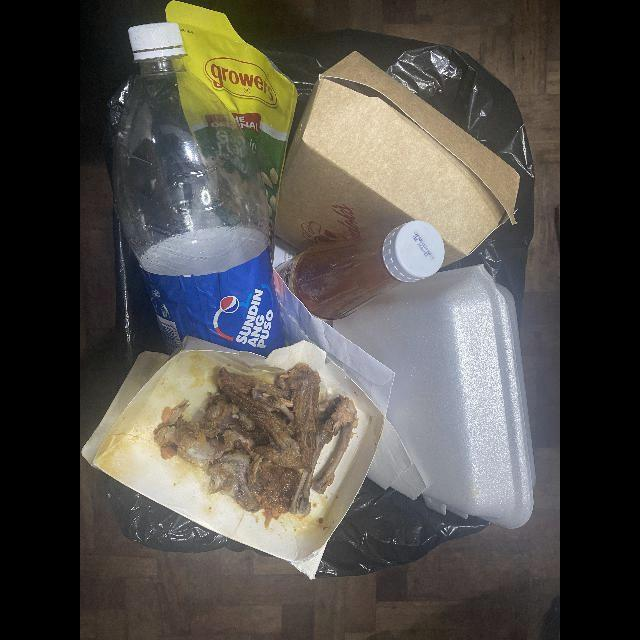cardboard: (81, 335, 386, 582), (271, 50, 520, 294)
food_wrapper: (165, 0, 298, 264)
glass_bottle: (274, 221, 445, 321)
left_over_food: (154, 363, 358, 527)
plastic_bottle: (114, 22, 285, 358)
